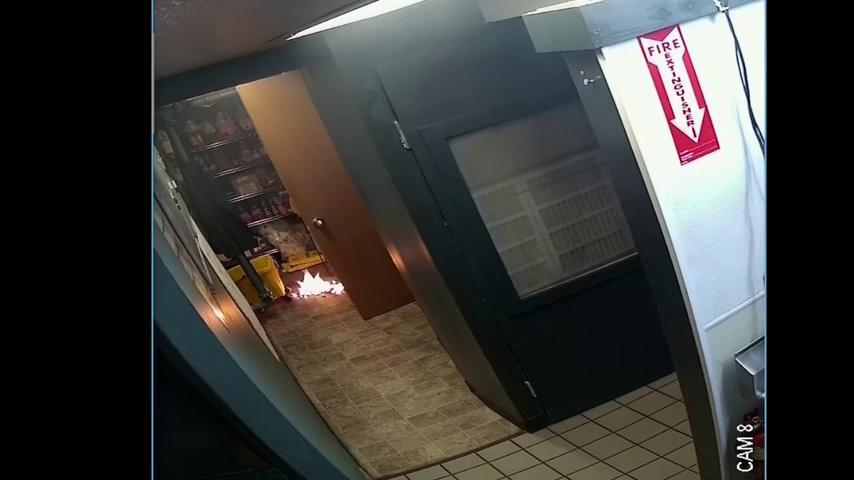fire: (253, 225, 384, 318)
